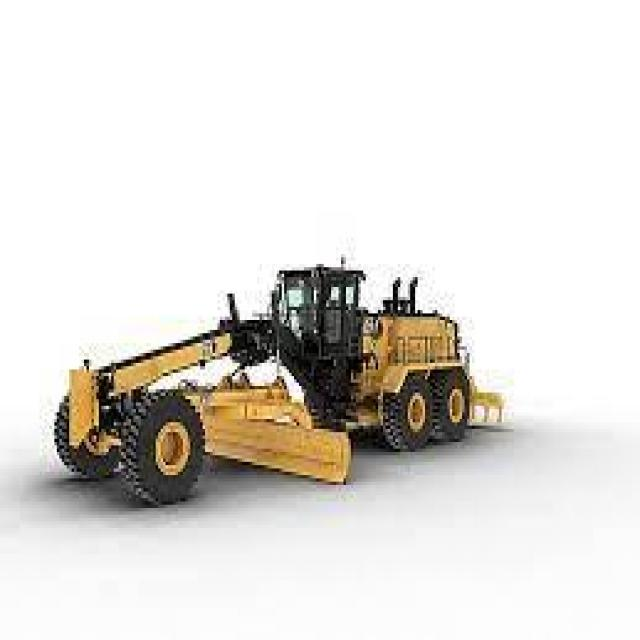Grader: (51, 250, 505, 512)
